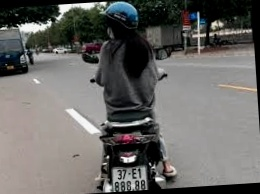Bien-so: (114, 168, 146, 194)
